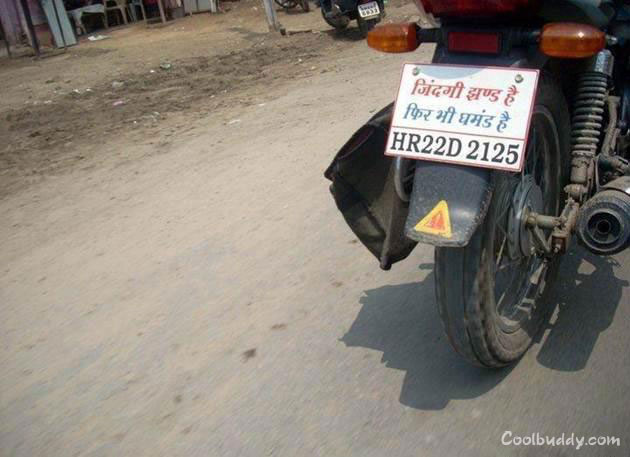number_plate: (385, 56, 542, 175)
